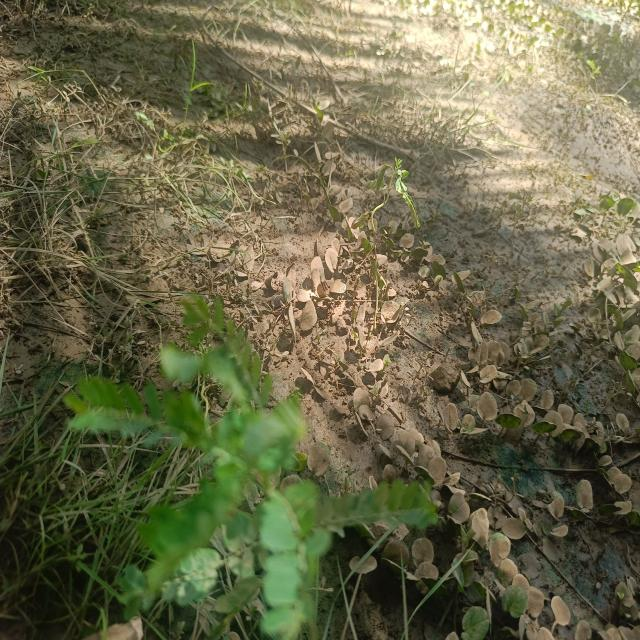weed: (67, 290, 435, 640)
